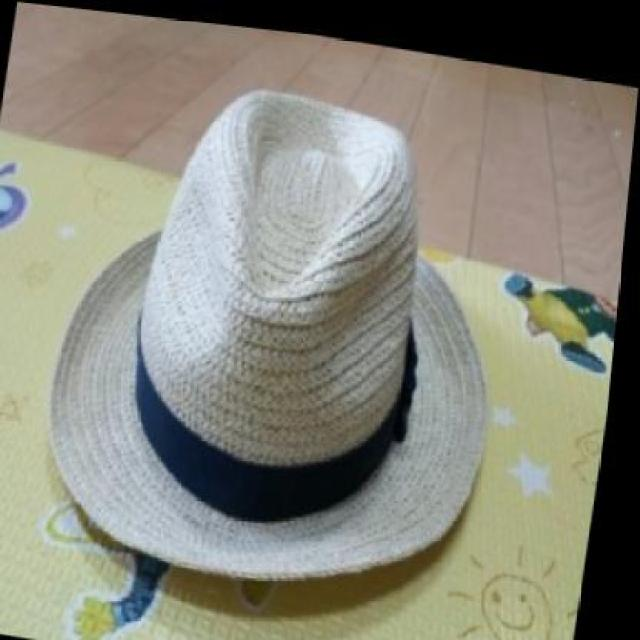hat: (33, 48, 538, 610)
